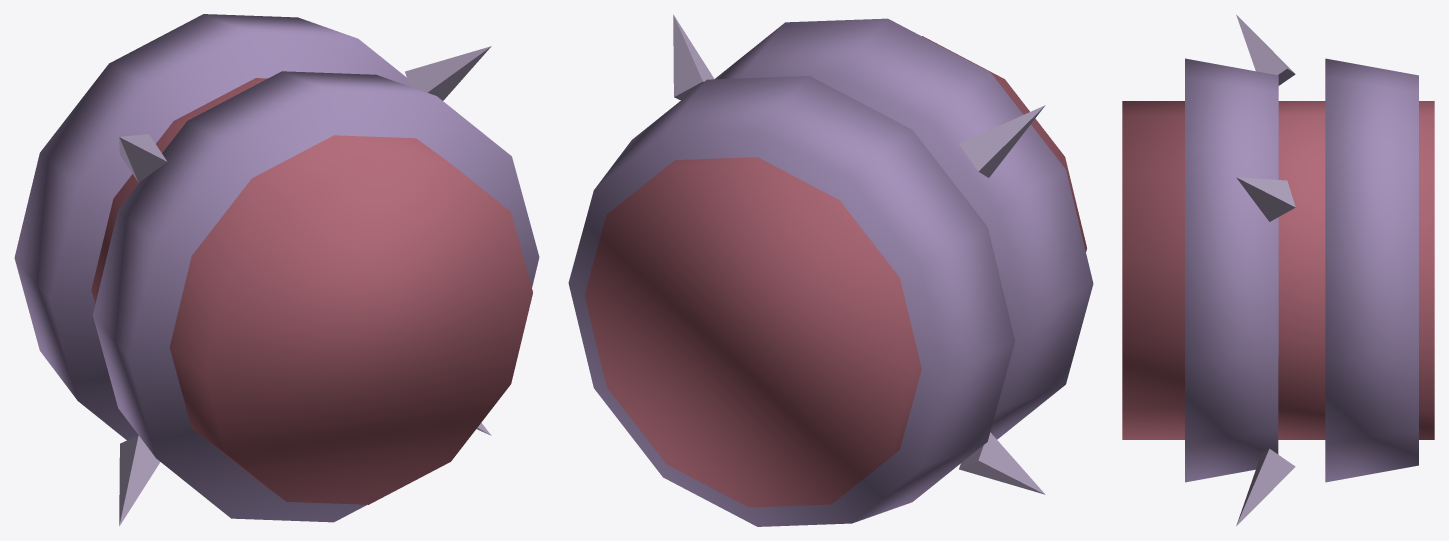
Rendered from bore_segment.glb.
The picture shows the model from 3 angles, left to right: view 1: azimuth 30°, elevation 25°; view 2: azimuth 150°, elevation 25°; view 3: azimuth 270°, elevation 25°; orthographic projection. The views are drawn at different scales.
Visible parts, largest first — view 1: bore_segment; view 2: bore_segment; view 3: bore_segment.
Part boxes in pixels (x1=…): bore_segment: x1=14, y1=14, x2=539, y2=526; bore_segment: x1=568, y1=14, x2=1093, y2=526; bore_segment: x1=1122, y1=14, x2=1434, y2=526.
Size of the model in its own units: 1.5 by 1.5 by 1.1.
